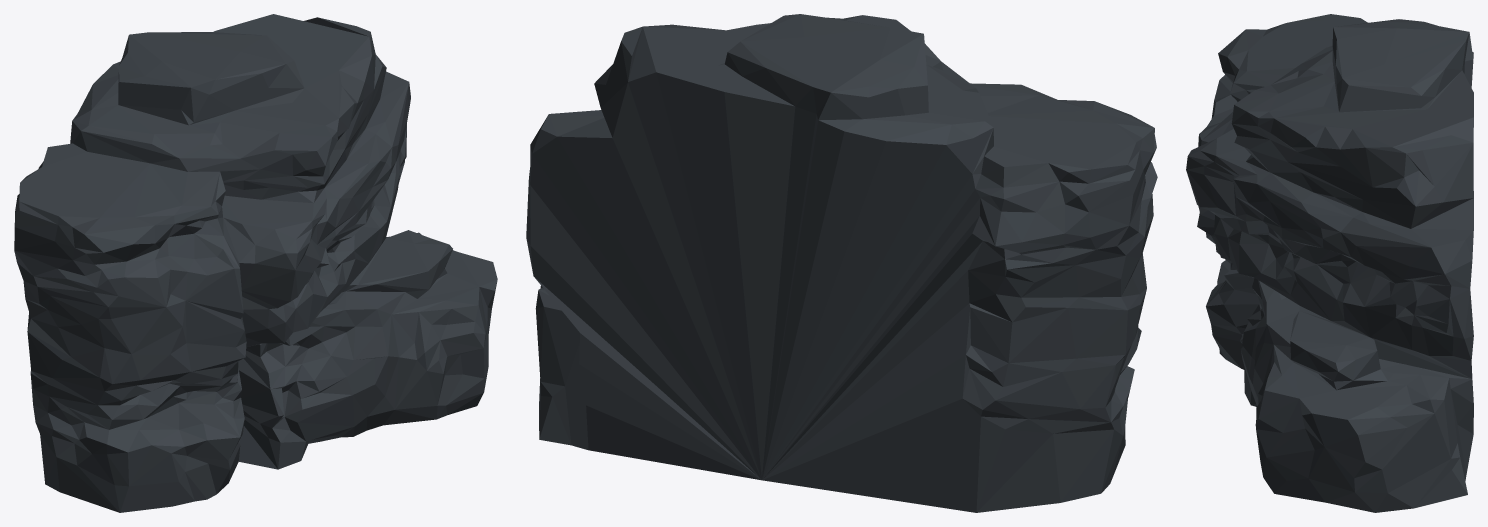
Rendered from MDungeon_CavernRock_Medium_02.FBX.
3 renders of one model, left to right at view 1: azimuth 30°, elevation 25°; view 2: azimuth 150°, elevation 25°; view 3: azimuth 270°, elevation 25°, orthographic. The views are drawn at different scales.
Visible parts, largest first — view 1: MDungeon_CavernRock_Medium_02_LOD0; view 2: MDungeon_CavernRock_Medium_02_LOD0; view 3: MDungeon_CavernRock_Medium_02_LOD0.
Boxes of the visible parts, x1,y1,x2,y2 form: MDungeon_CavernRock_Medium_02_LOD0: [14, 14, 497, 512]; MDungeon_CavernRock_Medium_02_LOD0: [526, 14, 1157, 512]; MDungeon_CavernRock_Medium_02_LOD0: [1186, 14, 1473, 512].
Size of what is drawn, in the model's own units: 27.78 by 19.51 by 14.65.
